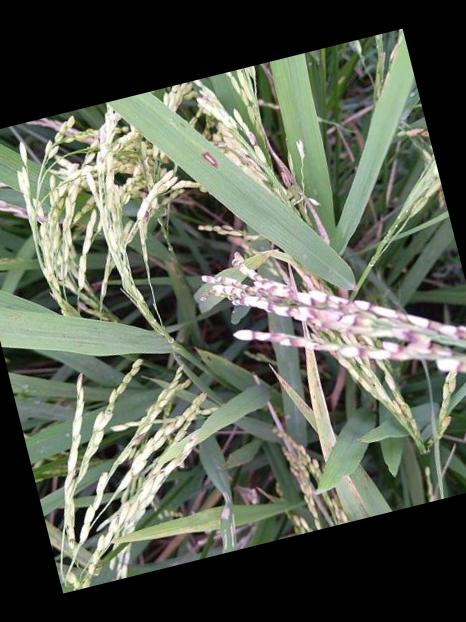Leaf Streak: (200, 150, 220, 169)
Panicle Blight: (194, 264, 466, 374)
